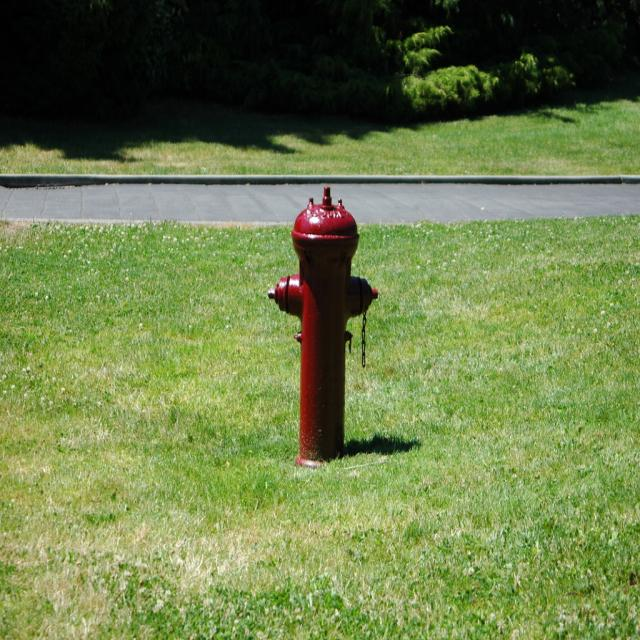fire_hydrant: (268, 187, 379, 469)
